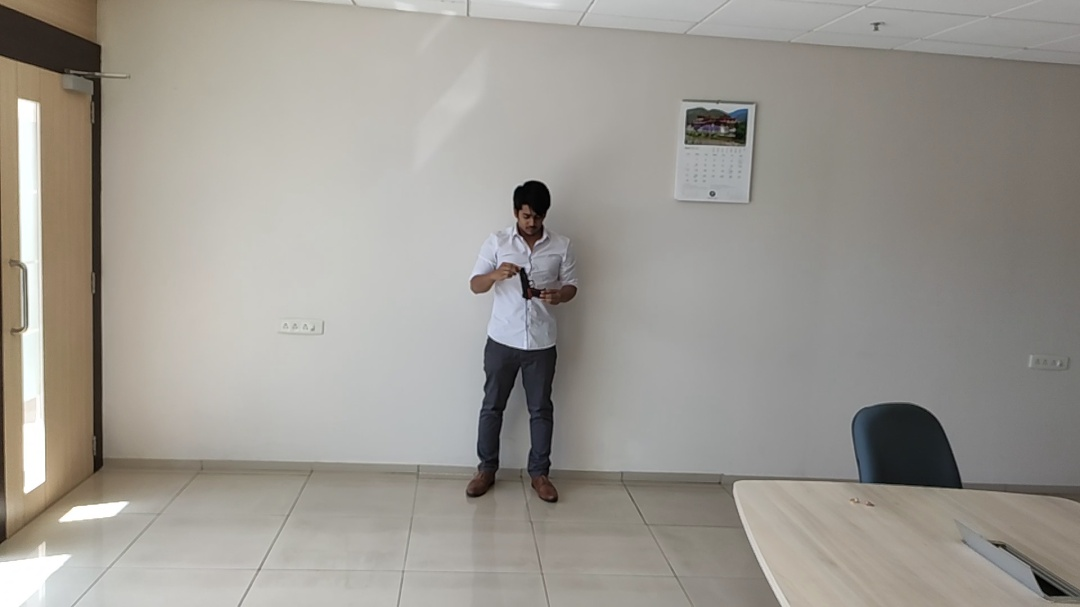gun: (519, 267, 546, 300)
